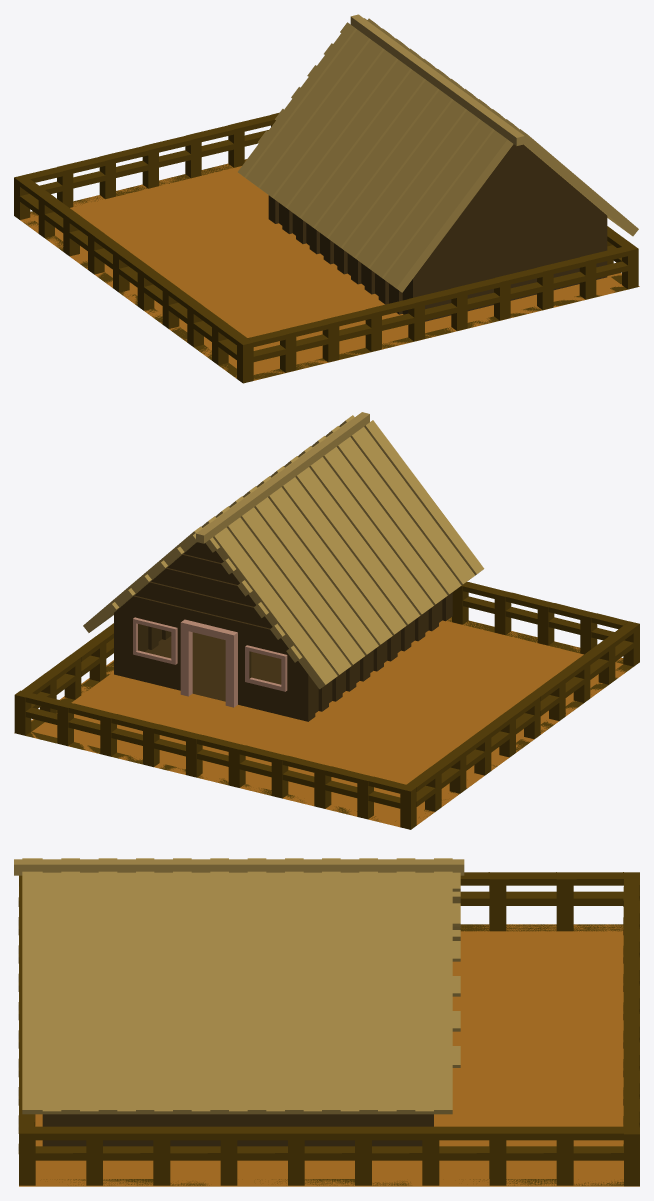
The model's file is barn.fbx.
3 views of the same model, one above another, from view 1: azimuth 30°, elevation 25°; view 2: azimuth 150°, elevation 25°; view 3: azimuth 270°, elevation 25° (orthographic). The views are drawn at different scales.
Parts seen in each view (by area): view 1: roof, Plane, floor, Cube.001; view 2: roof, floor, Plane, Cube.001, frame; view 3: roof, floor, Plane, Cube.001.
Part boxes in pixels (x1,y1,x2,y2): roof: [238, 14, 638, 292]; Plane: [14, 112, 638, 383]; floor: [20, 159, 639, 380]; Cube.001: [268, 144, 607, 321]; roof: [83, 412, 484, 689]; floor: [14, 617, 626, 827]; Plane: [14, 582, 639, 829]; Cube.001: [114, 542, 452, 721]; frame: [133, 617, 287, 707]; roof: [14, 858, 464, 1114]; floor: [19, 924, 639, 1186]; Plane: [18, 872, 639, 1186]; Cube.001: [42, 1114, 433, 1146].
Bounding box in the file's own units: 1001 × 435 × 1008.
